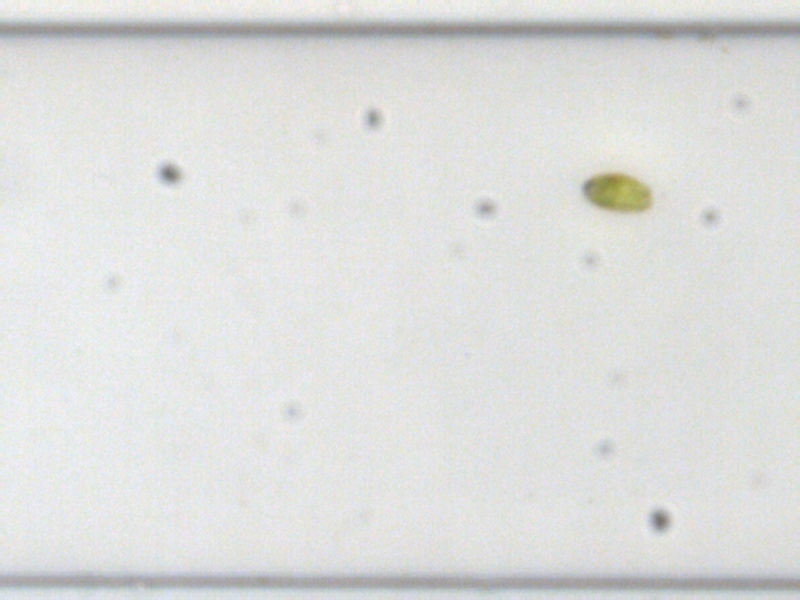Platymonas: (580, 170, 651, 212)
